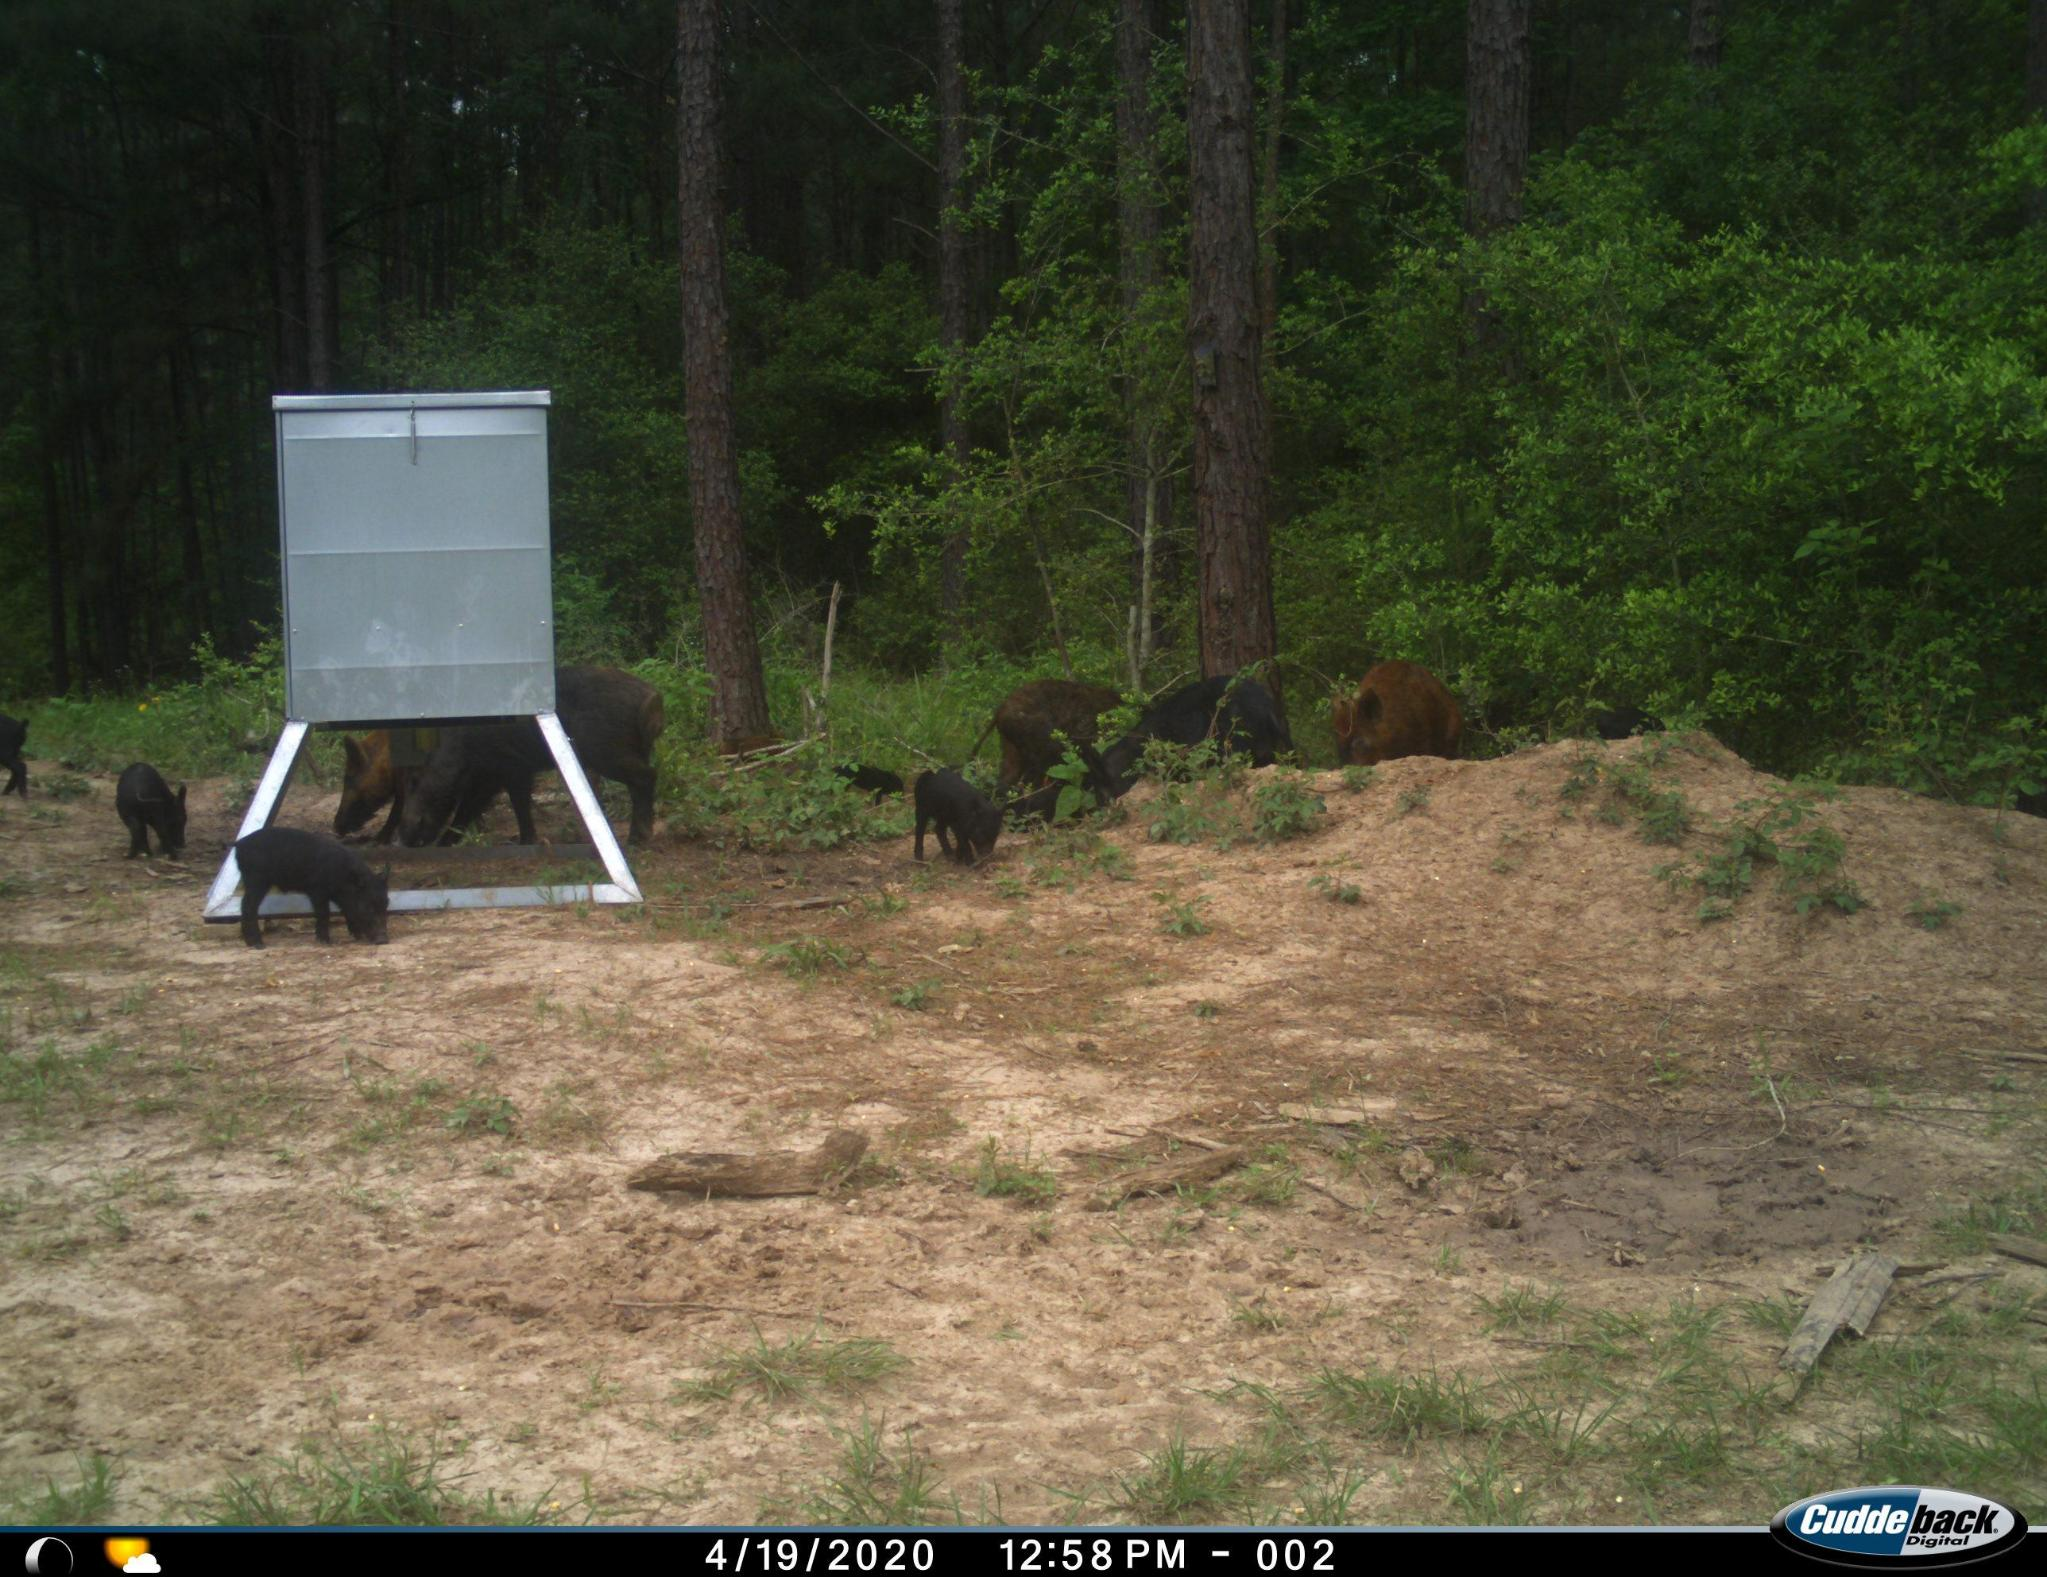Hog: (386, 663, 671, 886), (966, 674, 1153, 823), (1110, 679, 1308, 807), (224, 820, 406, 952), (1315, 654, 1476, 775), (888, 765, 1015, 881), (94, 752, 199, 871), (323, 722, 404, 860), (2, 704, 38, 792)
